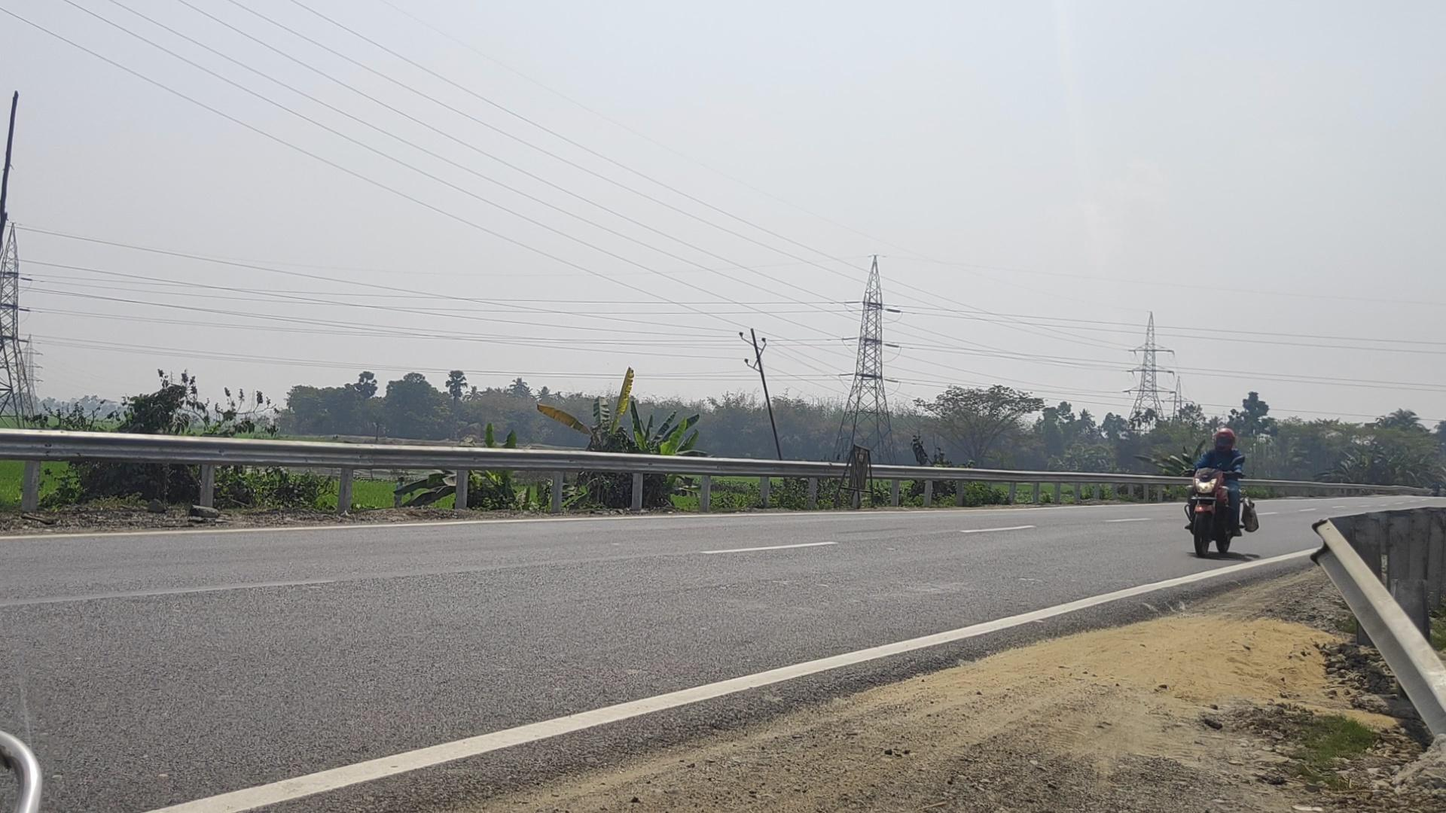bike: (1182, 428, 1260, 557)
